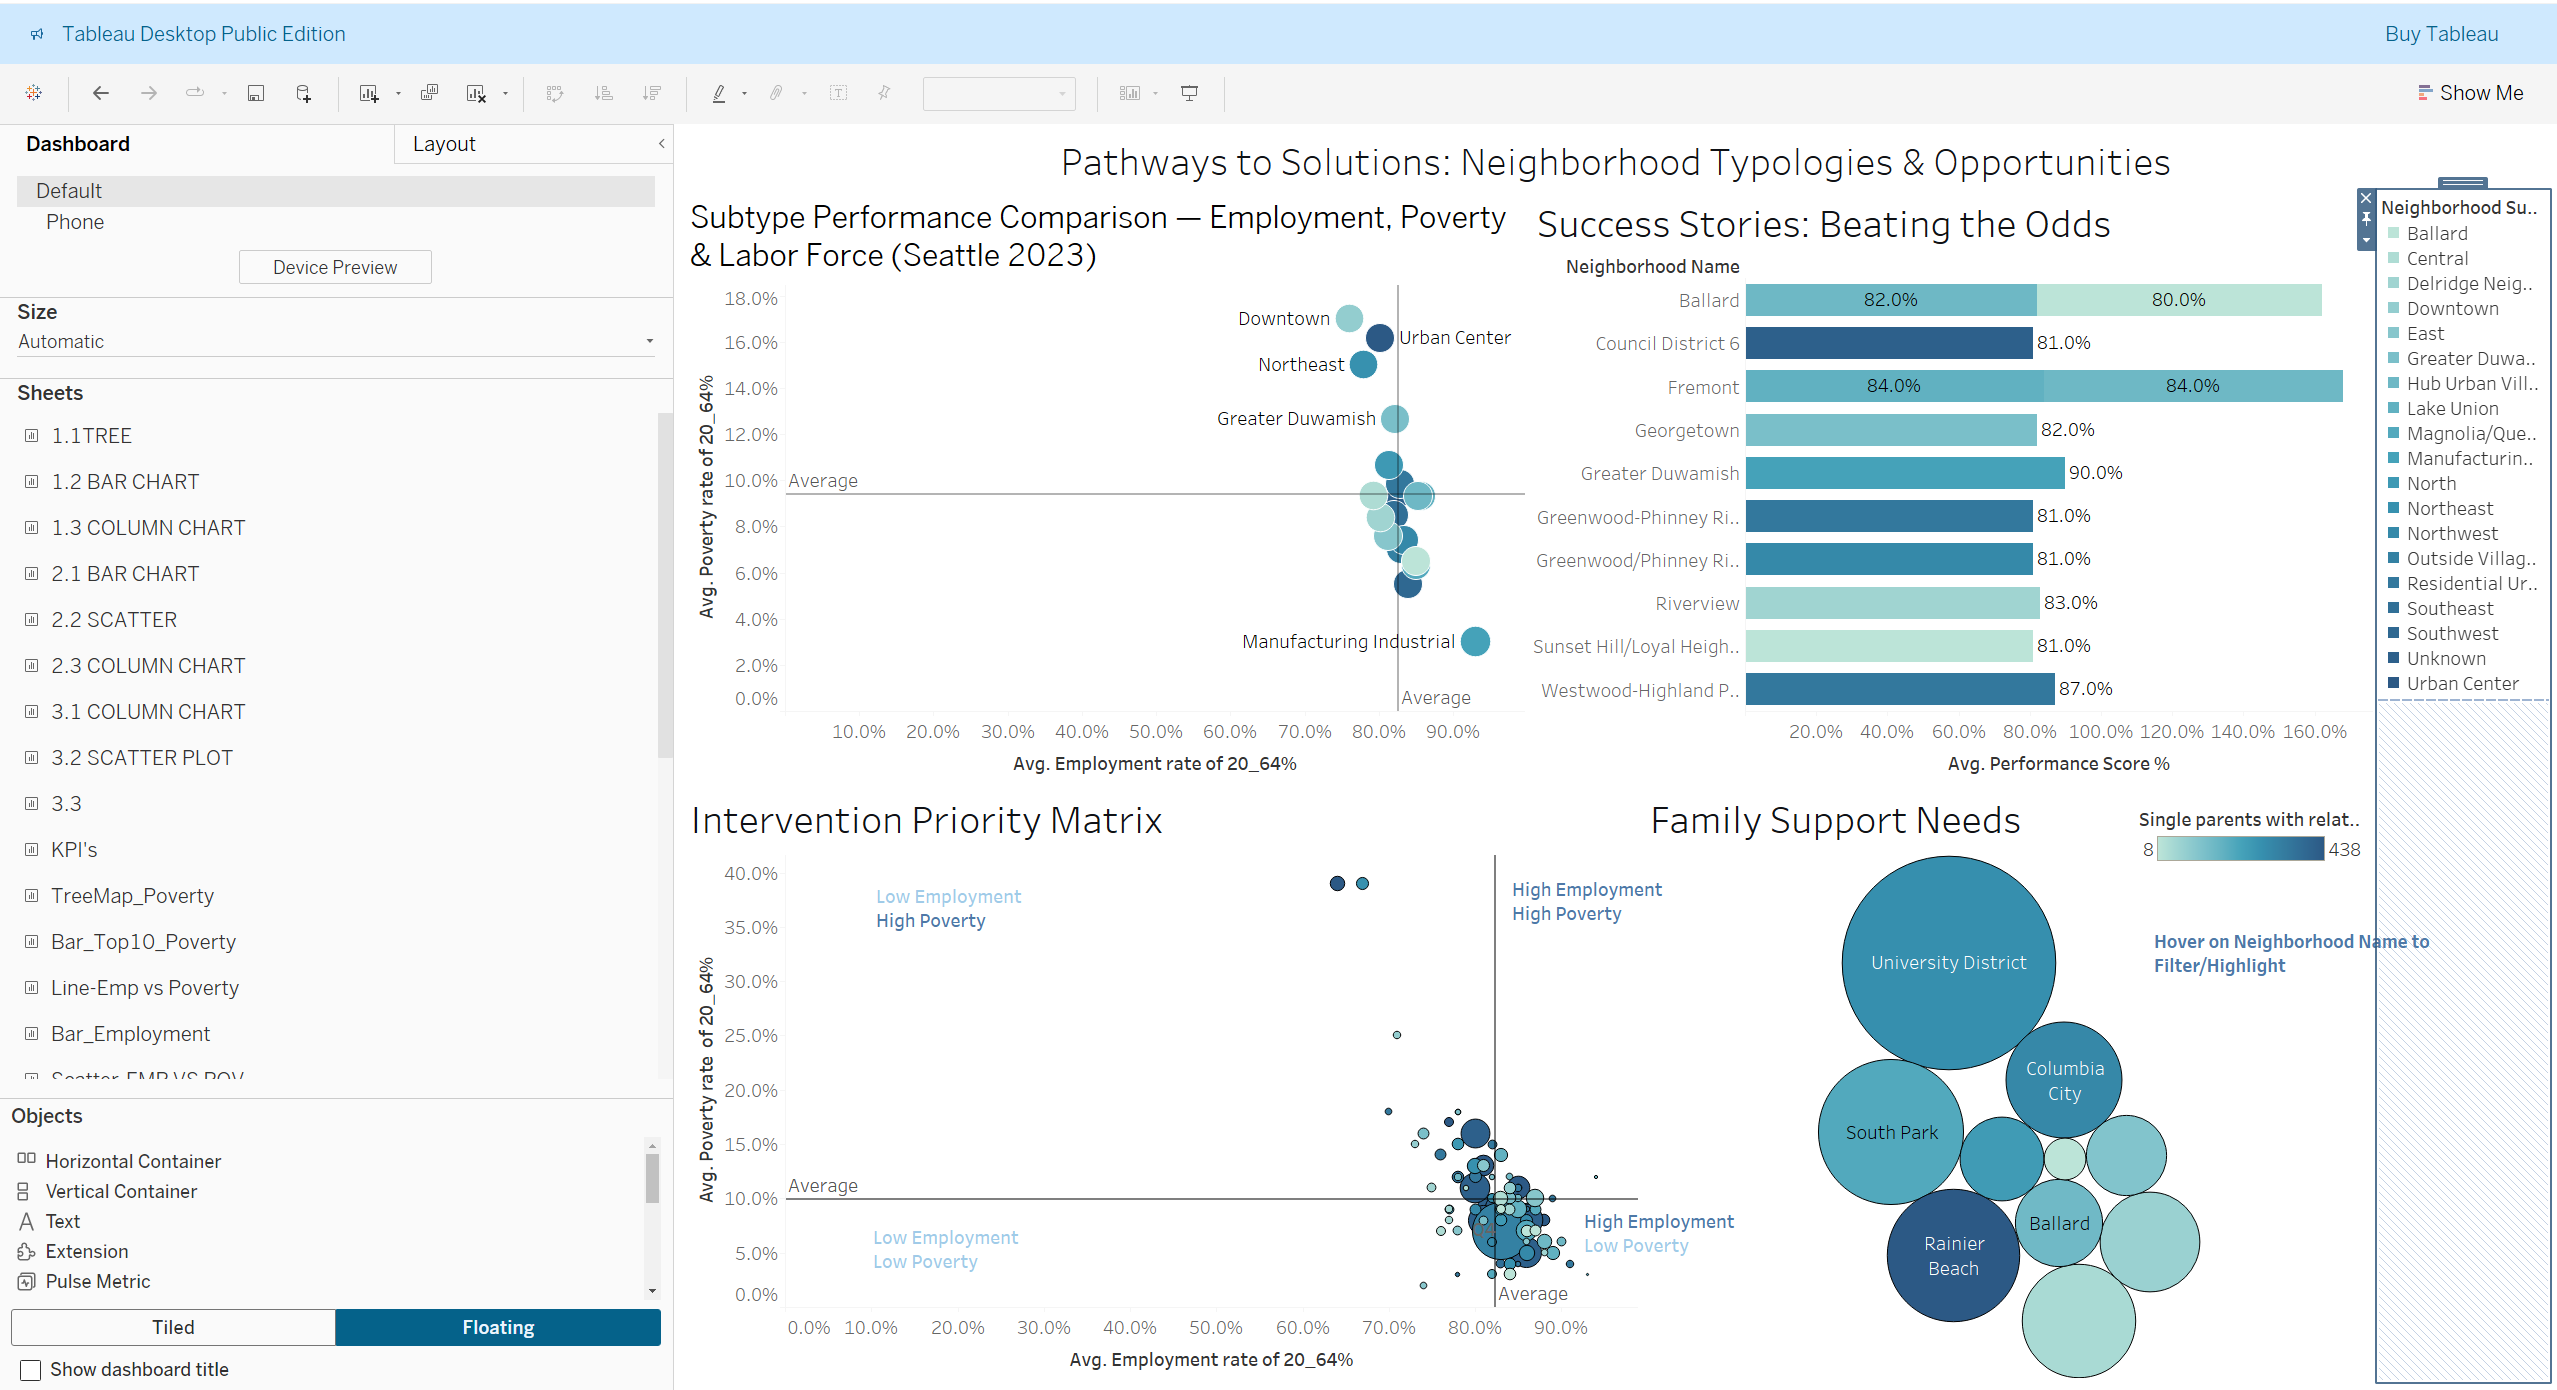

This screenshot's page, from the dashboard's own definition file:
{"tool":"tableau","page":{"name":"Dashboard_3","canvas":[1000,1000],"units":"permille","ordinal":2},"visuals":[{"type":"title","box":[3.6,6.3,992.9,45.8]},{"type":"worksheet","title":"Scatter_Subtype performance","mark":"Circle","rows":["Poverty_rate_20_64"],"cols":["Employment_rate_20_64"],"box":[3.6,52.1,456.5,470.8]},{"type":"worksheet","title":"Bar_Performance","mark":"Bar","rows":["Neighborhood Name"],"cols":["Calculation_2005509212371144710"],"box":[460.1,52.1,456.6,470.8]},{"type":"legend","title":"Scatter_Subtype performance","param":"[federated.032xgio0byku2z1ev66fd0881gxh].[none:Neighborhood Subtype:nk]","box":[916.7,52.1,79.8,402.1]},{"type":"worksheet","title":"Scatter_Matrix","mark":"Circle","rows":["Poverty_rate_20_64"],"cols":["Employment_rate_20_64"],"box":[3.6,522.9,456.5,470.8]},{"type":"worksheet","title":"Bubble_ratio","mark":"Circle","box":[460.1,522.9,456.6,470.8]},{"type":"legend","title":"Bubble_ratio","param":"[federated.032xgio0byku2z1ev66fd0881gxh].[sum:Single parents with related childr","box":[797.7,541.1,120.7,79]},{"type":"text","box":[798.6,622.4,189.3,71.1]}]}

Visuals, with their boxes on the dashboard's canvas, which has no fixed pixel size, in thousandths of its width and height (x1, y1, x2, y2). These are canvas units, not pixel positions in the 2557x1390 screenshot, which may show the page scaled, cropped or inside an application window:
title: detection(4, 6, 996, 52)
"Scatter_Subtype performance" worksheet (Circle marks): detection(4, 52, 460, 523)
"Bar_Performance" worksheet (Bar marks): detection(460, 52, 917, 523)
"Scatter_Subtype performance" legend: detection(917, 52, 996, 454)
"Scatter_Matrix" worksheet (Circle marks): detection(4, 523, 460, 994)
"Bubble_ratio" worksheet (Circle marks): detection(460, 523, 917, 994)
"Bubble_ratio" legend: detection(798, 541, 918, 620)
text: detection(799, 622, 988, 694)
